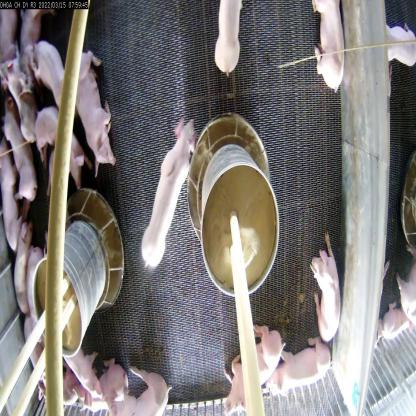Pig: (140, 114, 202, 277), (60, 39, 120, 173), (26, 95, 88, 195), (218, 319, 281, 410), (265, 336, 335, 415), (303, 225, 344, 355), (25, 14, 71, 111), (0, 92, 41, 200), (304, 0, 344, 83), (212, 0, 249, 80), (113, 365, 169, 415), (2, 143, 27, 249), (87, 362, 126, 415), (64, 344, 96, 398)
